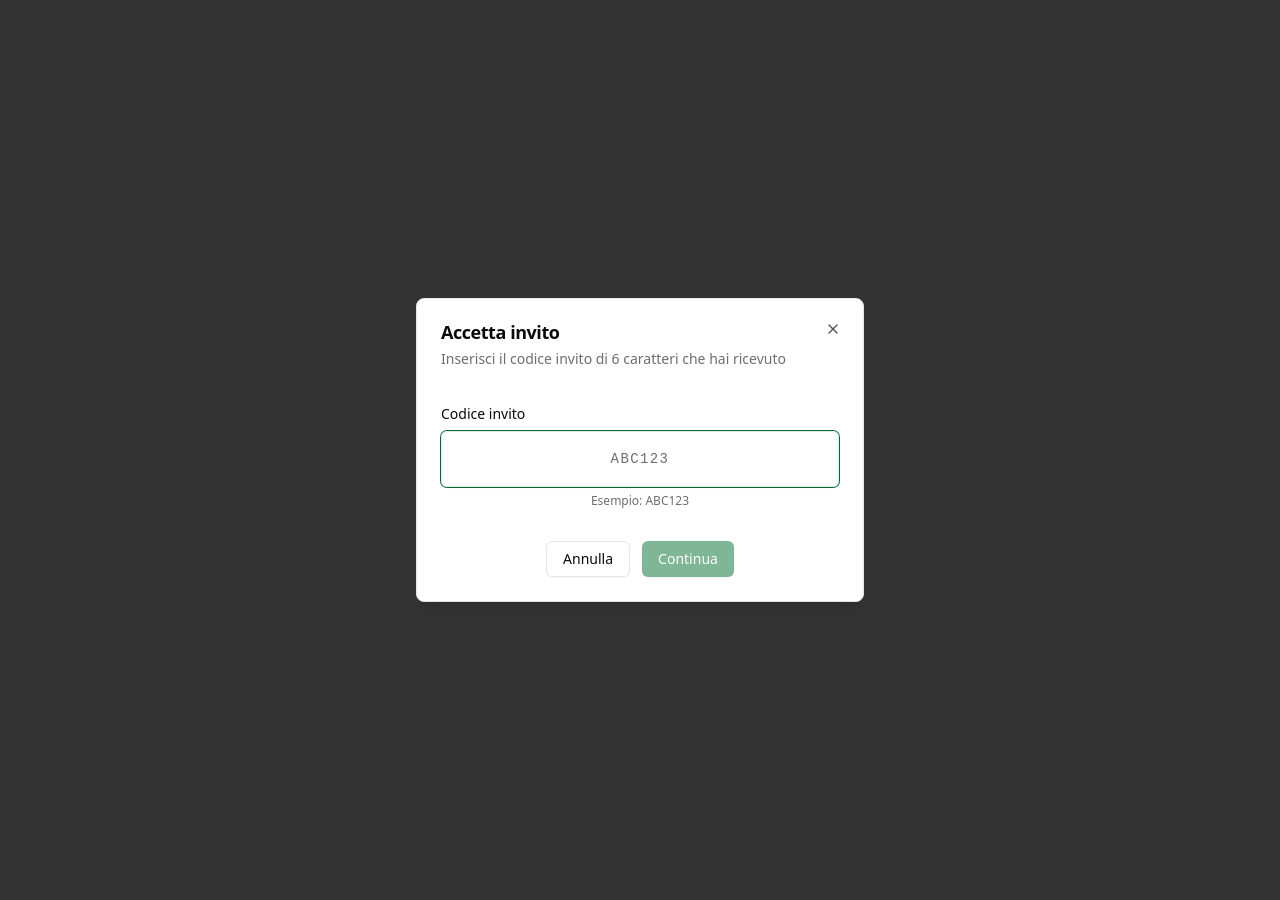
AcceptInviteFlowDialog — validazione codice › mostra un errore inline (non un toast) per codice troppo corto, senza chiamare il backend
Type "AB1" into the field with placeholder "ABC123" at [640, 459], box [441,431,839,487]
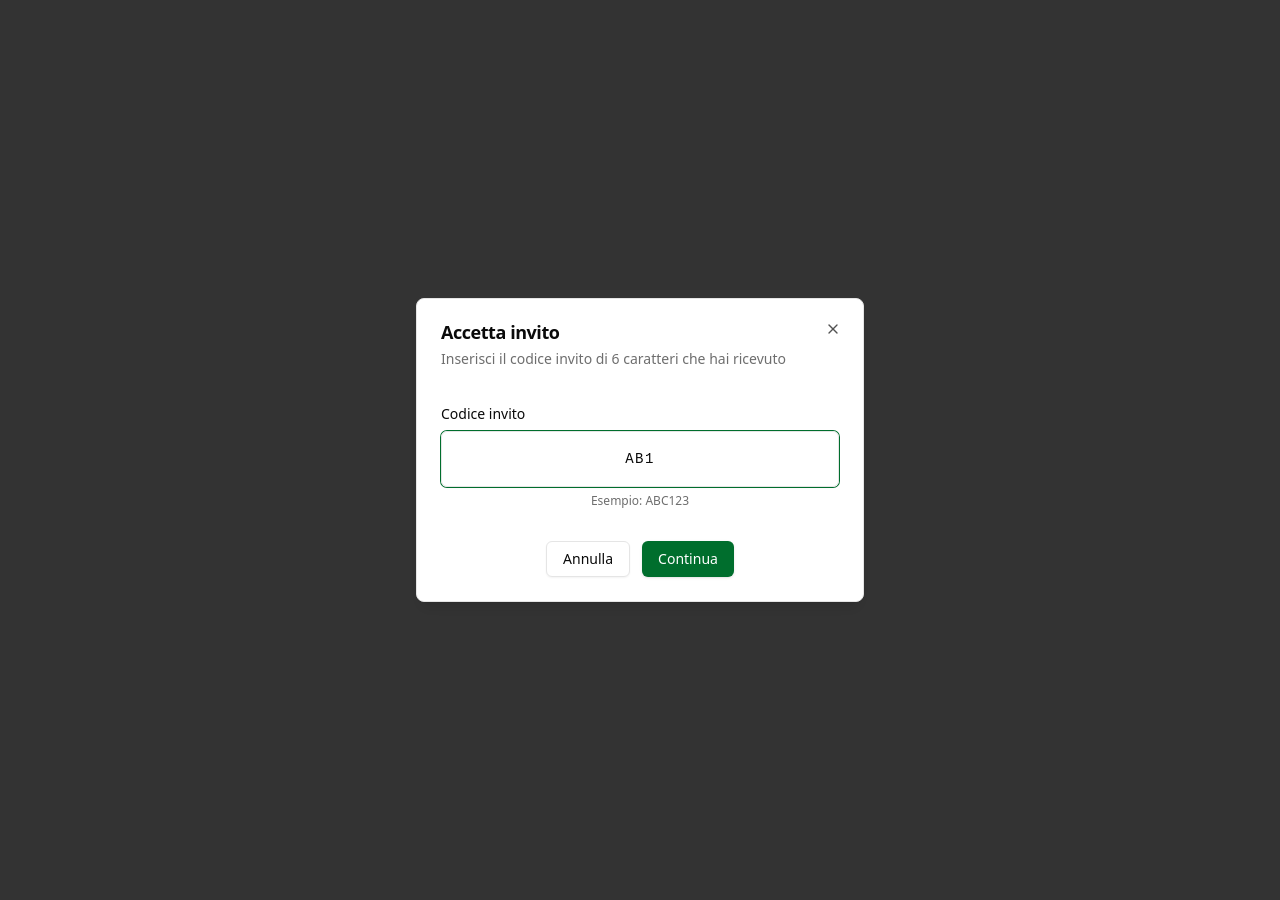
Click the button "Continua" at [688, 559], box [642,541,734,577]
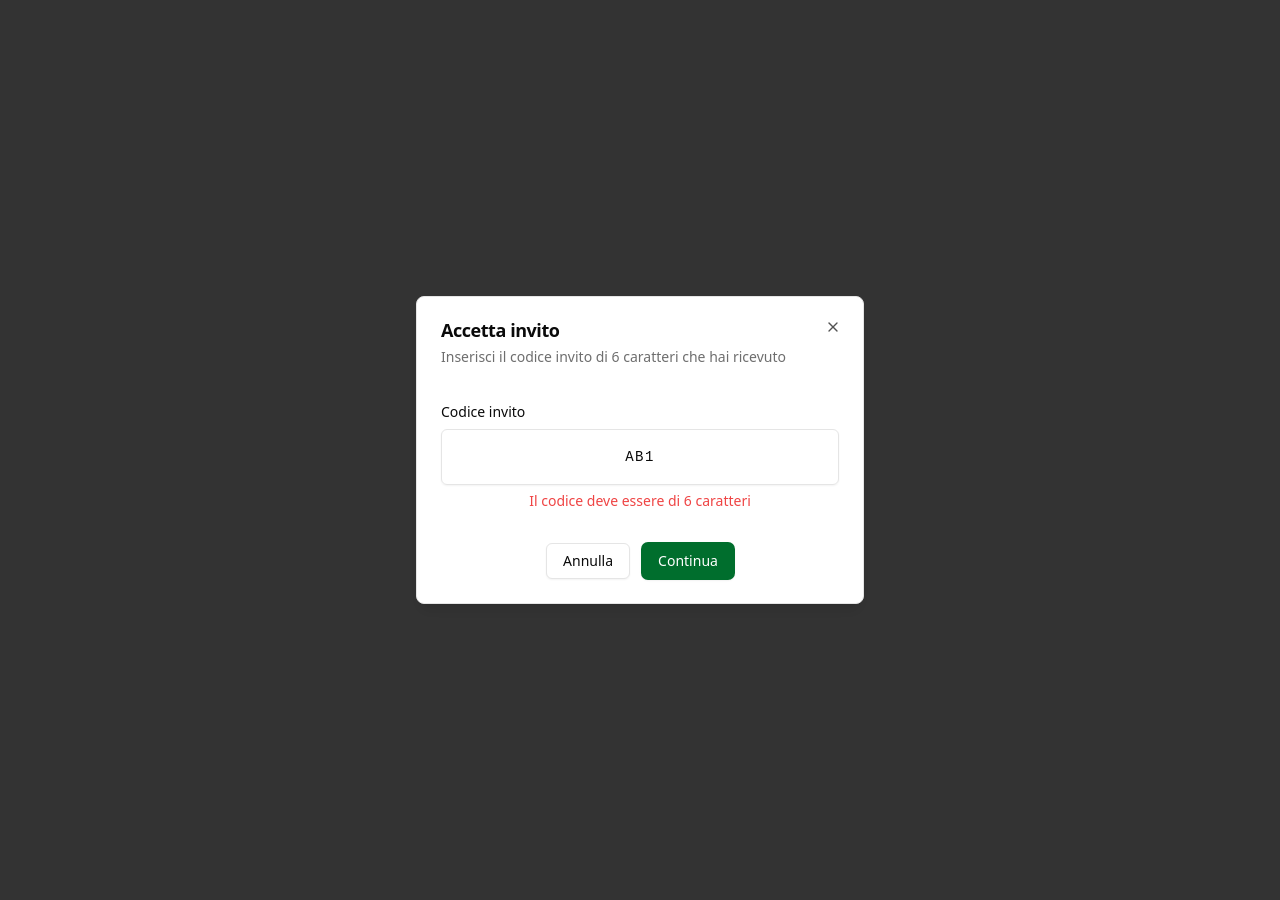
Result: the message shows "6 caratteri" at [529,491,751,510]
